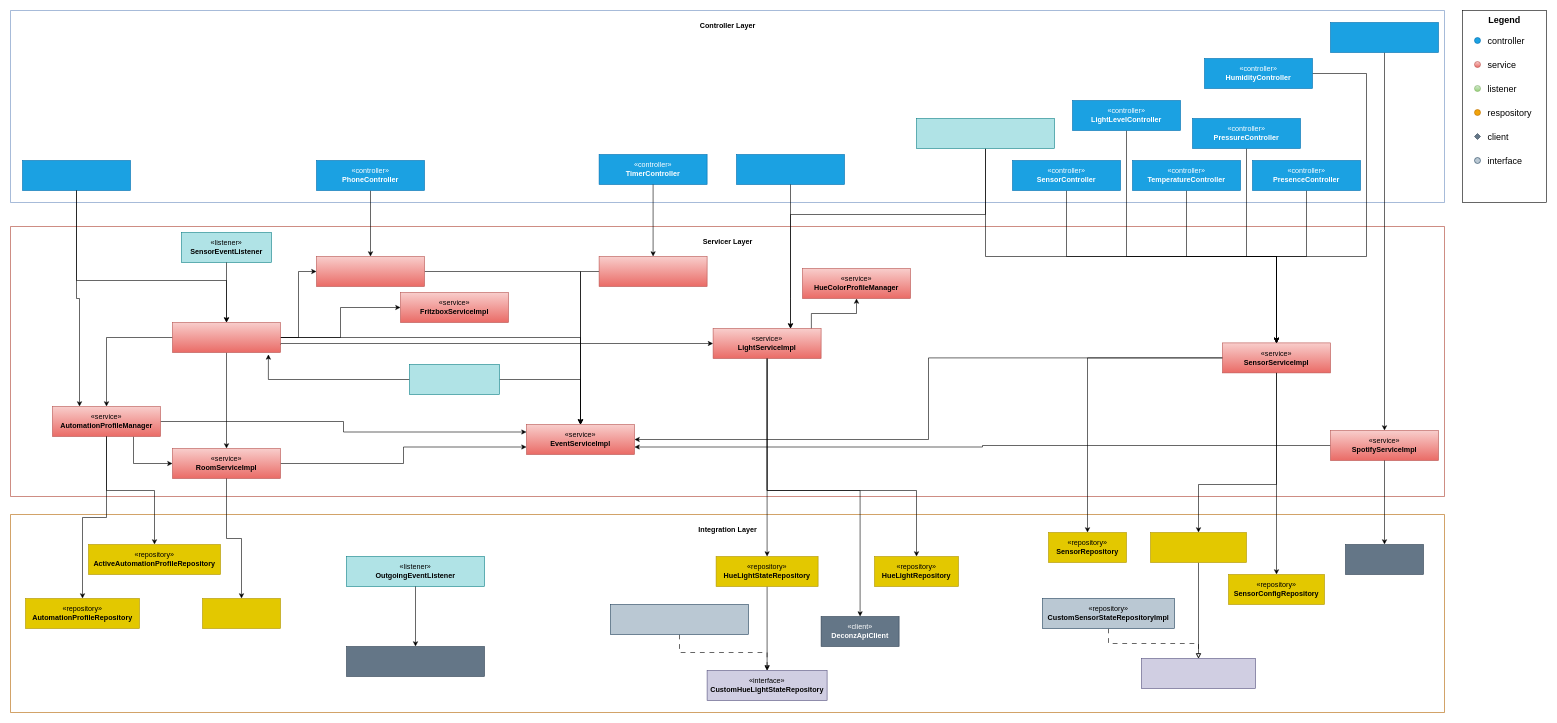
This 1557x723 diagram has some shape labels left out. Here are the shapes that lost their labels. From the top down, the centre of each, then its label:
At (1384,37): "«controller» SpotifyController".
At (985,133): "«listener» RaspbeeWebSocketEventListener".
At (76,175): "«controller» AutomationController".
At (790,169): "«controller» LightController".
At (370,271): "«service» PhoneServiceImpl".
At (652,271): "«service» TimerServiceImpl".
At (226,337): "«service» AutomationServiceImpl".
At (454,379): "«listener» RoomEventListener".
At (1198,547): "«repository» SensorStateRepository".
At (1384,559): "«client» SpotifyApiClient".
At (241,613): "«repository» RoomRepository".
At (679,619): "«repository» CustomHueLightStateRepositoryImpl".
At (415,661): "«client» StompMessageAdapter".
At (1198,673): "«interface» CustomSensorStateRepository".
